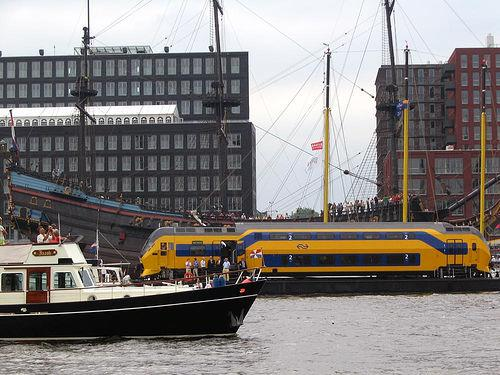Train: (140, 220, 492, 287)
